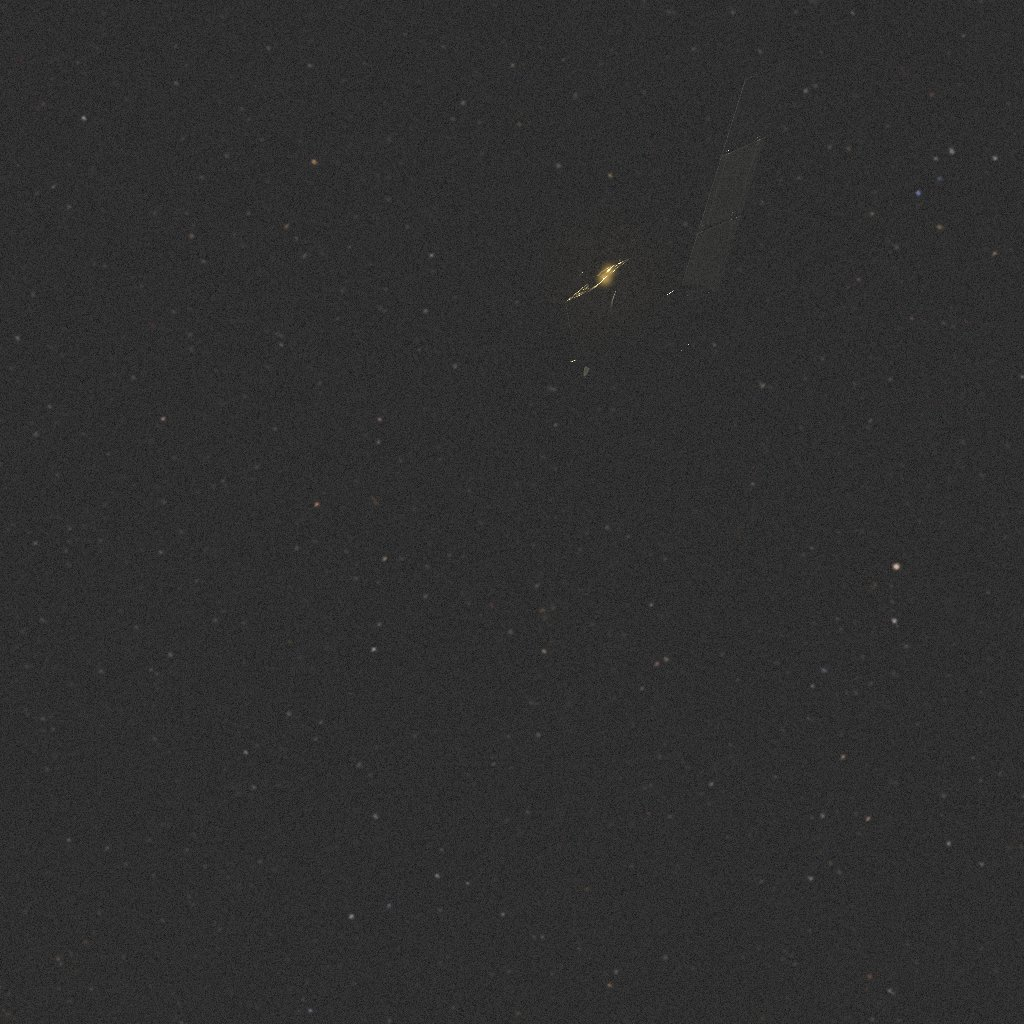earth_observation_sat_1: (565, 59, 791, 387)
